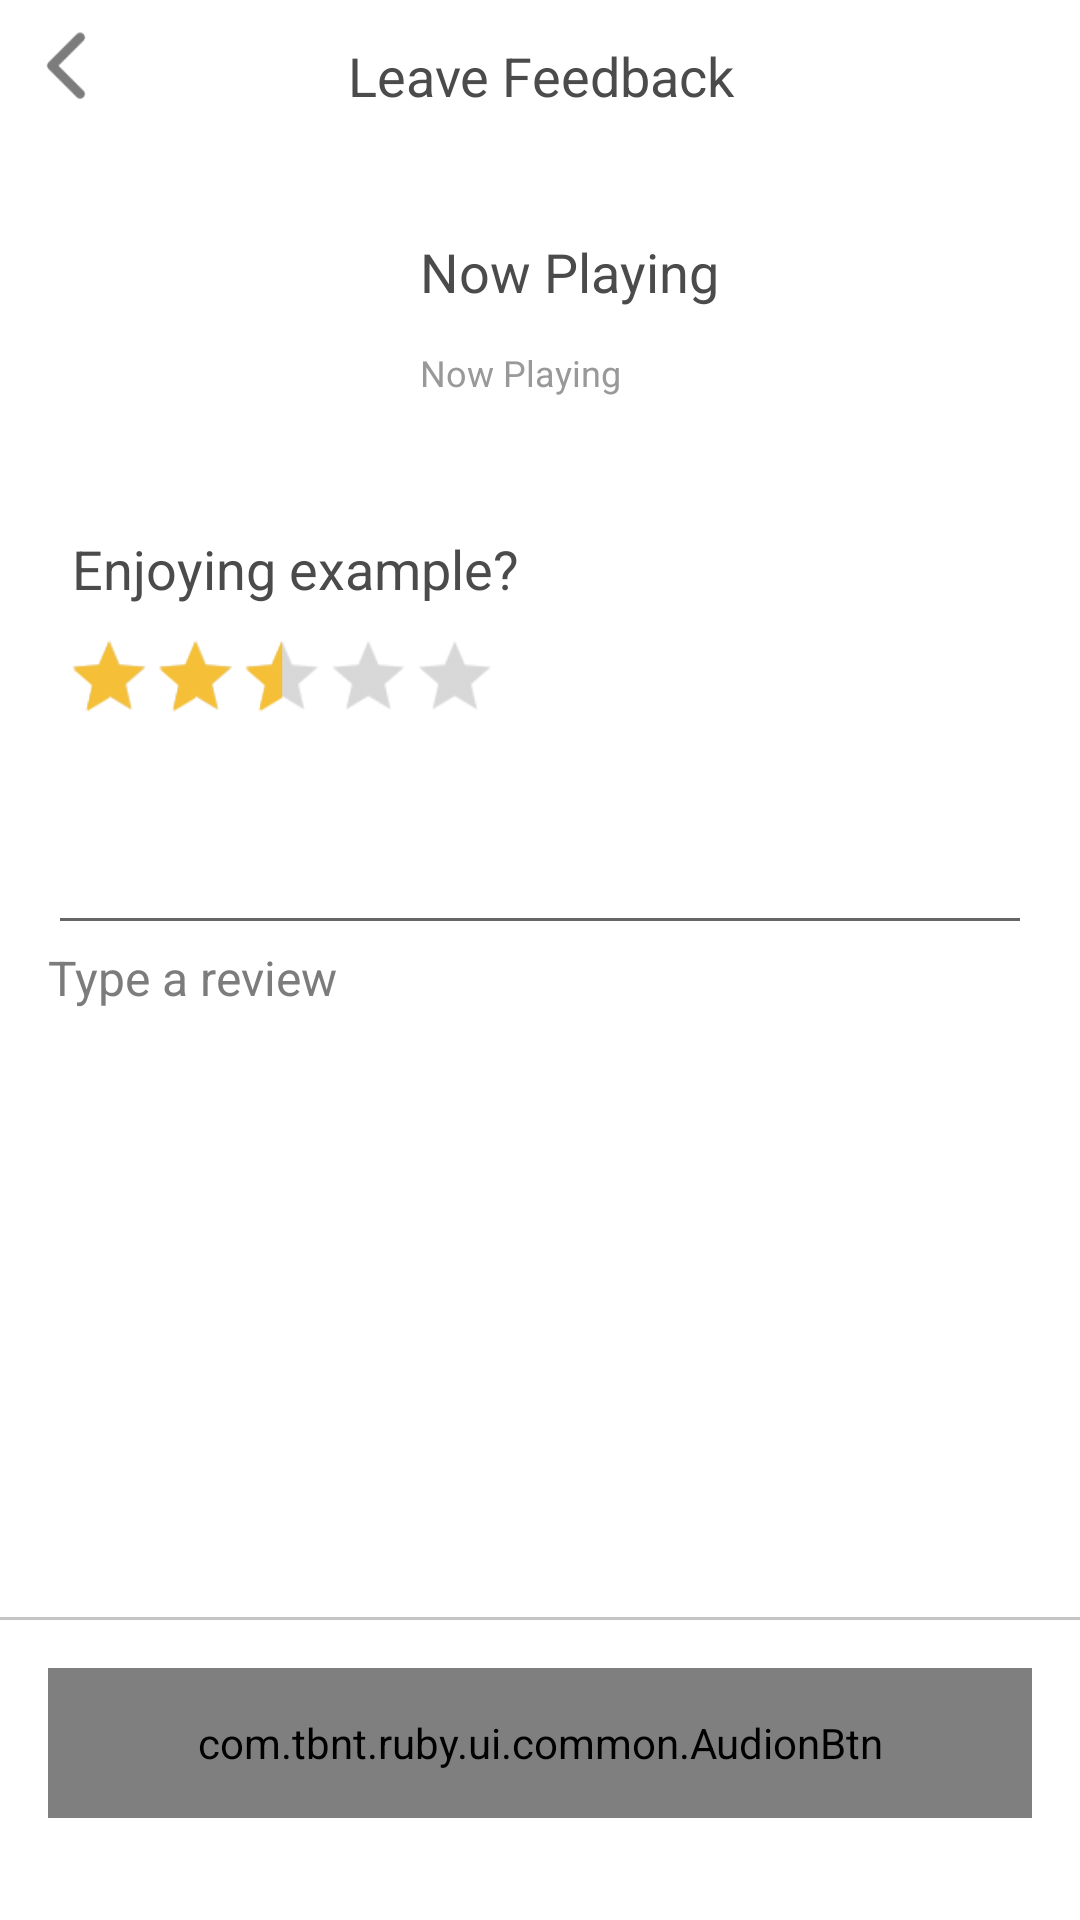

Icons on this 1080w x 1920h Android screen, each with the point to tap as (x,y):
arrow left: (66,65)
